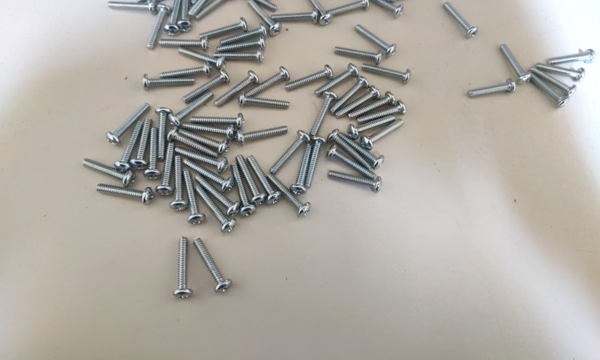longscrew: (195, 238, 232, 293), (79, 154, 137, 188), (266, 173, 309, 218), (269, 130, 311, 175), (325, 146, 379, 181), (194, 177, 240, 217), (326, 132, 373, 171), (166, 90, 216, 125), (195, 187, 232, 232), (108, 102, 149, 142), (249, 154, 280, 205), (163, 132, 215, 162), (169, 132, 221, 162), (235, 156, 266, 206), (529, 69, 567, 109), (180, 161, 232, 190), (179, 132, 231, 161), (216, 72, 259, 107), (531, 67, 577, 99), (227, 162, 254, 215), (328, 78, 370, 112), (355, 22, 397, 56), (95, 182, 154, 206), (327, 169, 383, 194), (317, 63, 358, 97), (342, 133, 385, 165), (336, 87, 383, 116), (351, 92, 398, 120), (175, 47, 227, 72), (183, 75, 231, 102), (444, 0, 478, 38), (244, 0, 281, 34), (248, 68, 292, 96), (501, 43, 531, 84), (360, 102, 408, 127), (534, 64, 588, 86), (362, 121, 404, 149), (304, 135, 324, 192), (348, 116, 395, 140), (311, 92, 336, 137), (117, 121, 139, 172), (332, 45, 383, 67), (286, 66, 334, 89), (362, 62, 412, 84), (200, 18, 248, 40), (183, 125, 231, 147), (158, 139, 174, 200), (170, 156, 186, 217), (185, 168, 201, 229), (175, 238, 191, 299), (321, 0, 374, 18), (465, 81, 518, 99), (548, 49, 598, 68), (157, 38, 209, 56), (134, 118, 152, 170), (240, 93, 289, 112), (190, 115, 252, 130), (220, 25, 266, 45), (233, 129, 292, 144), (142, 74, 196, 90), (295, 144, 311, 196), (105, 0, 156, 16), (149, 3, 165, 52), (197, 0, 234, 21), (271, 10, 320, 25), (213, 39, 269, 52), (161, 67, 211, 81), (362, 0, 405, 16), (304, 0, 331, 25), (213, 51, 265, 63), (156, 109, 168, 161), (146, 127, 157, 183), (235, 0, 279, 12), (189, 0, 218, 16), (166, 0, 178, 37), (179, 0, 191, 31), (192, 0, 214, 6), (136, 0, 178, 2)
